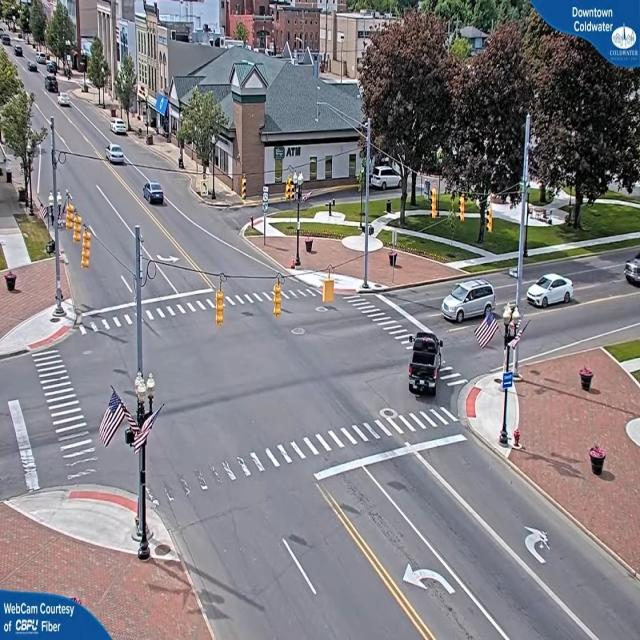car: (442, 278, 496, 326), (409, 333, 445, 397), (528, 273, 576, 309), (144, 182, 168, 207), (626, 253, 640, 288), (107, 144, 128, 166), (112, 120, 129, 136), (46, 78, 60, 94), (58, 94, 71, 107), (14, 46, 25, 59), (28, 61, 39, 72)
